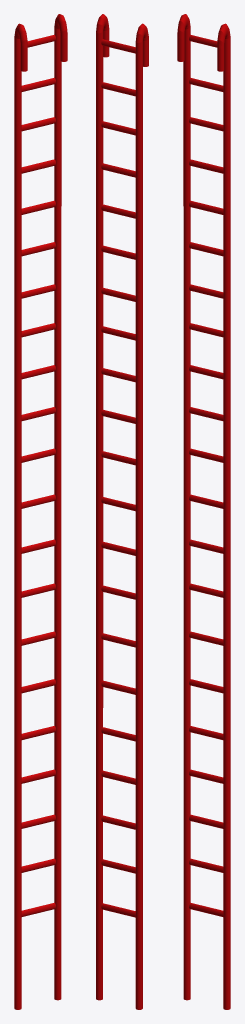
File: SeesawStage(MetalLadder).obj
3 views of the same model, side by side, from view 1: azimuth 30°, elevation 25°; view 2: azimuth 150°, elevation 25°; view 3: azimuth 330°, elevation 25° (orthographic).
Visible parts, largest first — view 1: 円柱.012; view 2: 円柱.012; view 3: 円柱.012.
Part boxes in pixels (x1,y1,x2,y2): 円柱.012: (14, 14, 67, 1009); 円柱.012: (96, 14, 148, 1009); 円柱.012: (177, 14, 230, 1009).
Bounding box in the file's own units: 2.72 × 55.65 × 0.9925.
